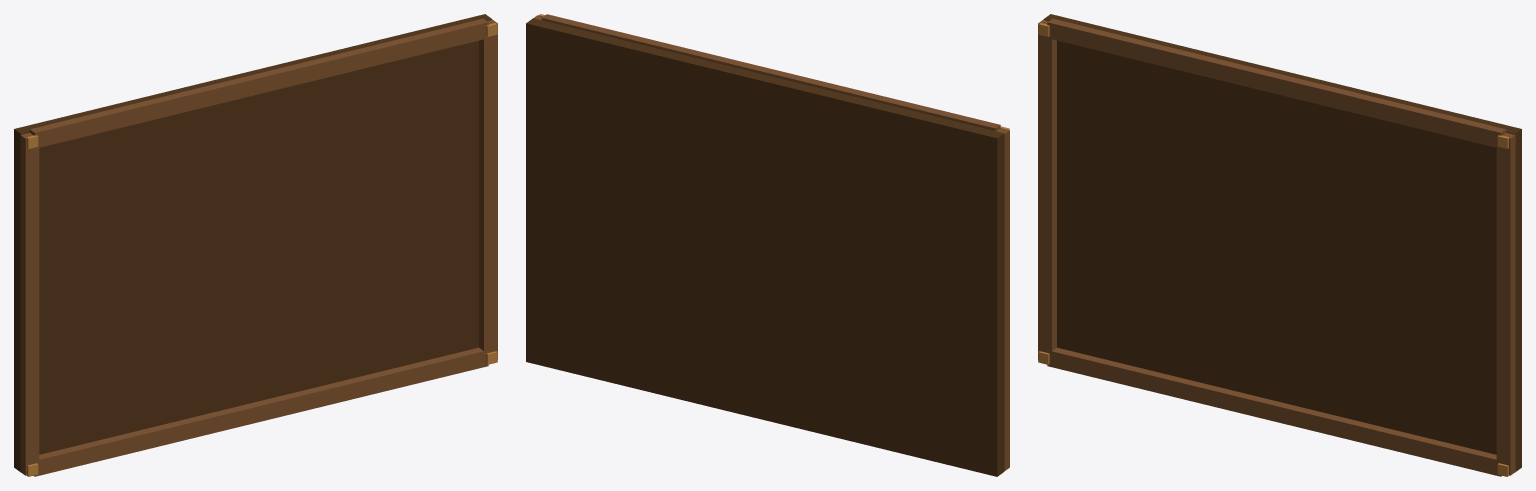
File: mia-timetable.glb
3 views of the same model, side by side, from view 1: azimuth 30°, elevation 25°; view 2: azimuth 150°, elevation 25°; view 3: azimuth 330°, elevation 25° (orthographic).
Visible parts, largest first — view 1: Body_wood, Body_oak, Body_brass; view 2: Body_wood, Body_oak; view 3: Body_wood, Body_oak, Body_brass.
Boxes of the visible parts, left/top/right/bottom form: Body_wood: left=14, top=14, right=492, bottom=472; Body_oak: left=20, top=18, right=497, bottom=476; Body_brass: left=26, top=23, right=497, bottom=476; Body_wood: left=526, top=18, right=1004, bottom=476; Body_oak: left=533, top=14, right=1009, bottom=471; Body_wood: left=1043, top=14, right=1521, bottom=472; Body_oak: left=1038, top=18, right=1515, bottom=476; Body_brass: left=1038, top=23, right=1509, bottom=476.
Bounding box in the file's own units: 1.61 × 1.12 × 0.079.
